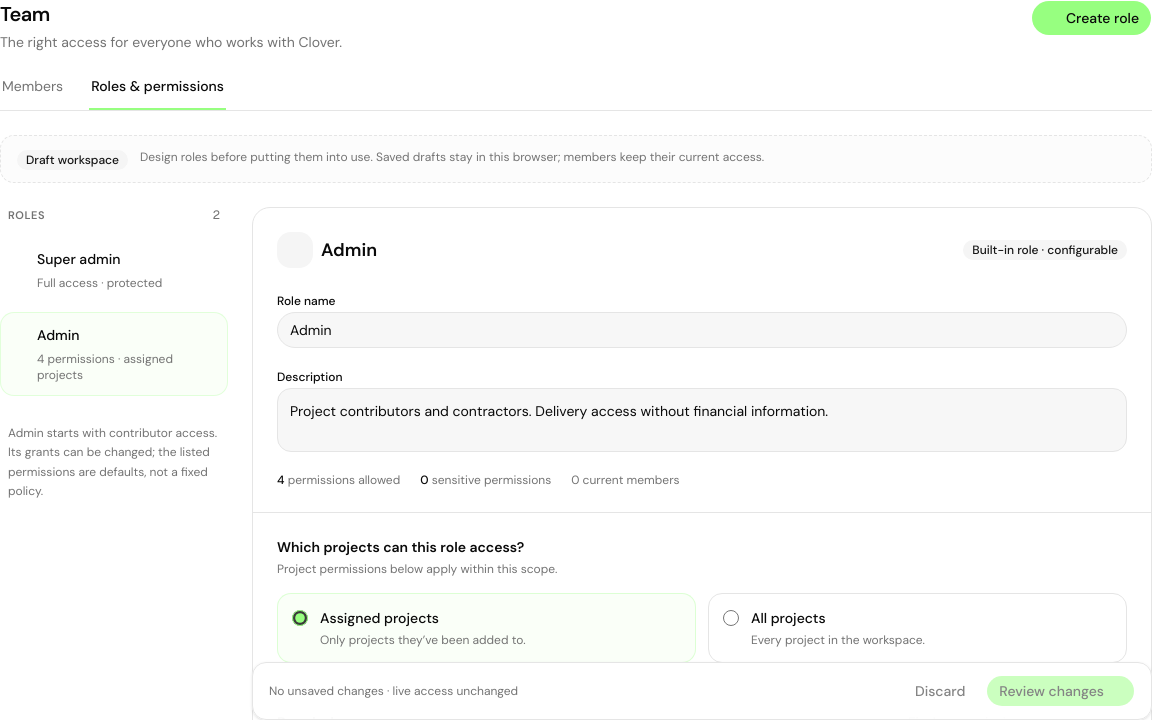
Test: role design drafts › creates a custom role from Admin and discards an unsaved role
Click the button "Create role": (1091,18) [1031, 0, 1151, 36]
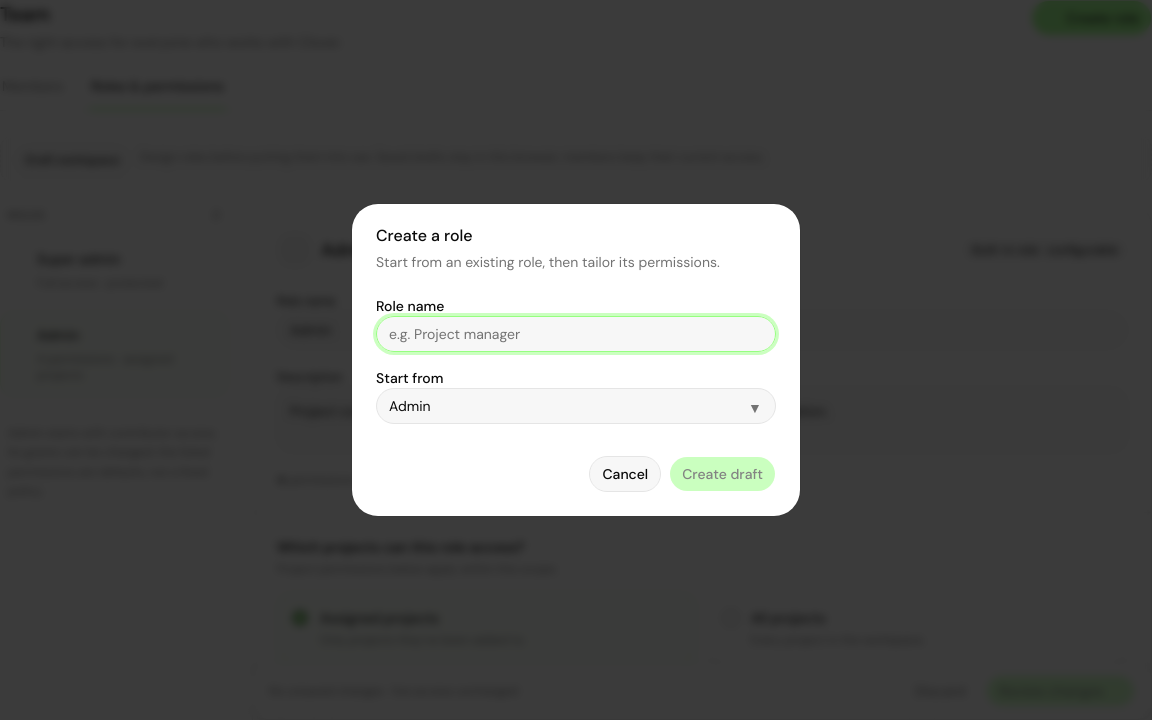
In the field labelled "Role name": (576,334) [376, 316, 776, 352], type "Project manager"
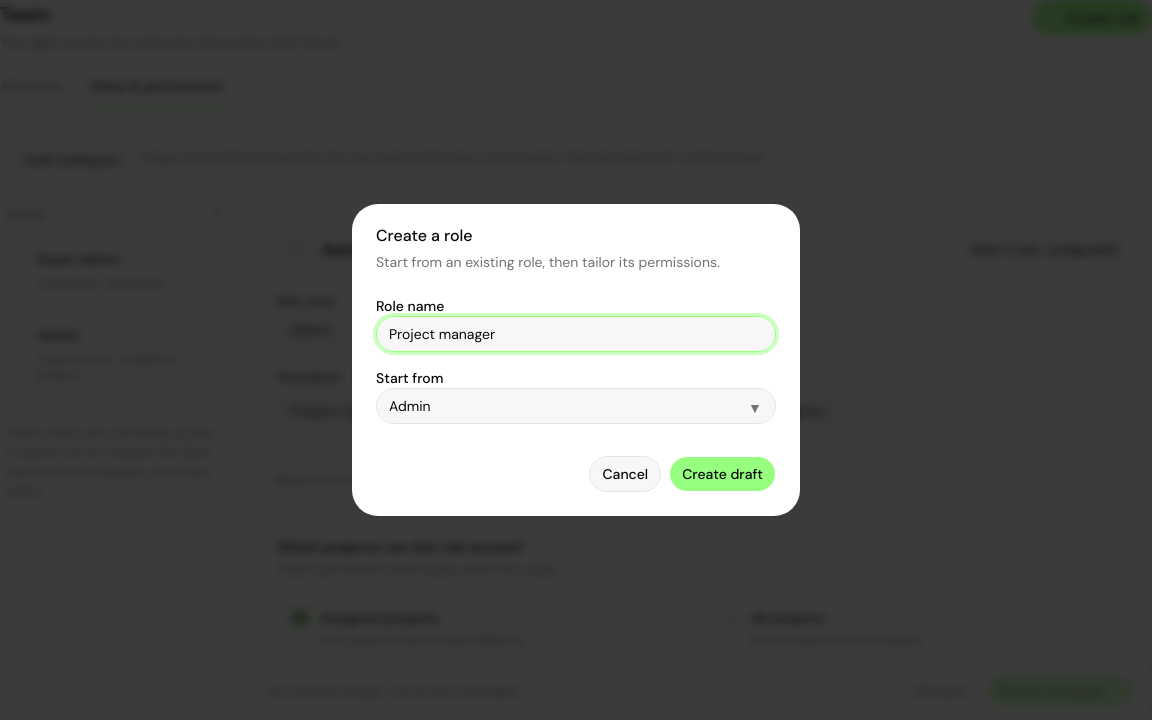
Click the button "Create draft": (723,474) [669, 456, 776, 492]
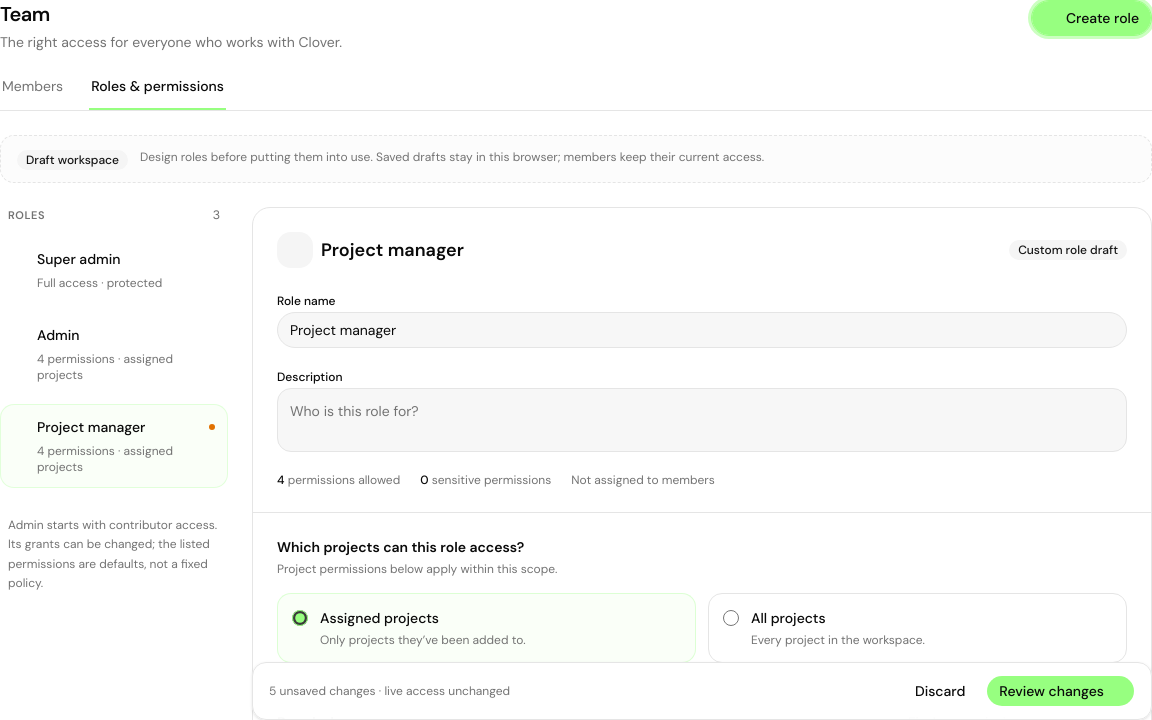
expect the heading "Project manager" is shown: met, box [321, 238, 464, 262]
Click the button "Discard": (940,691) [902, 675, 978, 707]
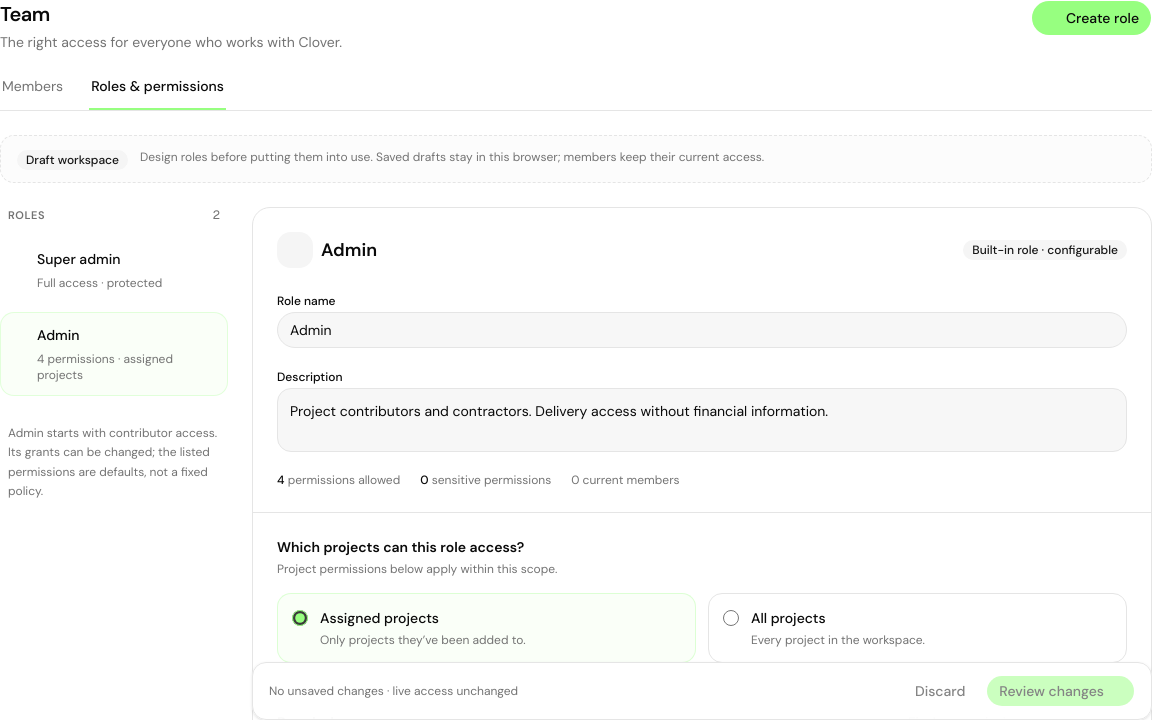
expect the button "Project manager" is gone: met
